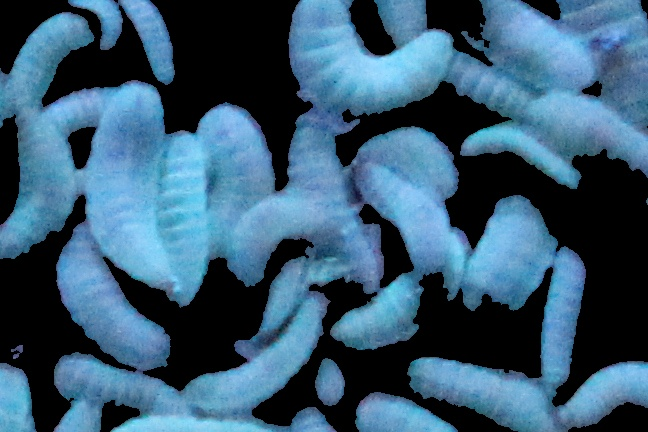larvae: (83, 80, 180, 293), (181, 294, 328, 417), (289, 3, 451, 111), (331, 225, 470, 350), (50, 231, 175, 367), (284, 117, 379, 292), (449, 4, 600, 91), (555, 1, 648, 133), (196, 103, 273, 261), (465, 194, 557, 326), (406, 354, 556, 432), (1, 115, 82, 258), (527, 94, 648, 188), (356, 160, 449, 271), (1, 15, 94, 122), (153, 131, 207, 304), (460, 128, 583, 187), (46, 356, 181, 409), (228, 195, 309, 283), (356, 129, 457, 194), (558, 363, 648, 428), (446, 52, 535, 117), (541, 251, 582, 382), (118, 1, 179, 81), (114, 410, 285, 432), (41, 86, 115, 129), (356, 396, 444, 432), (1, 362, 46, 432), (69, 1, 122, 50)
